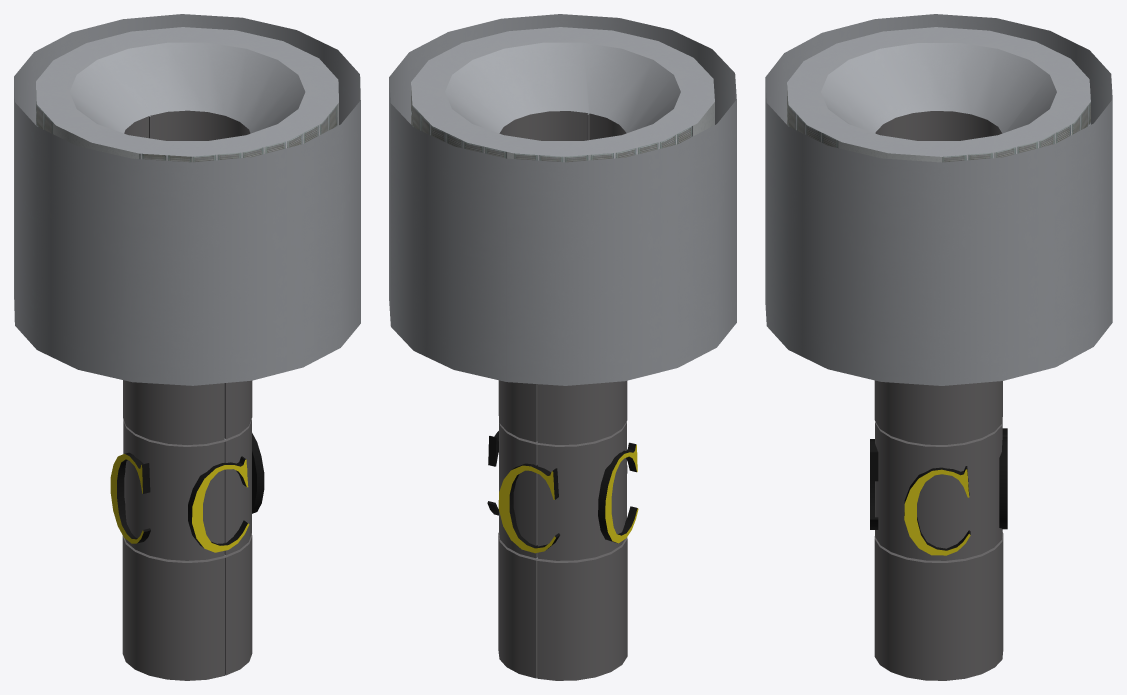
The model's file is Circular structure C.fbx.
3 renders of one model, left to right at view 1: azimuth 30°, elevation 25°; view 2: azimuth 150°, elevation 25°; view 3: azimuth 270°, elevation 25°, orthographic.
Visible parts, largest first — view 1: Circular Shape; view 2: Circular Shape; view 3: Circular Shape.
Boxes of the visible parts, left/top/right/bottom form: Circular Shape: left=14, top=14, right=360, bottom=680; Circular Shape: left=389, top=14, right=736, bottom=680; Circular Shape: left=765, top=14, right=1112, bottom=680.
Size of the model in its own units: 6.08 by 10.79 by 6.01.
